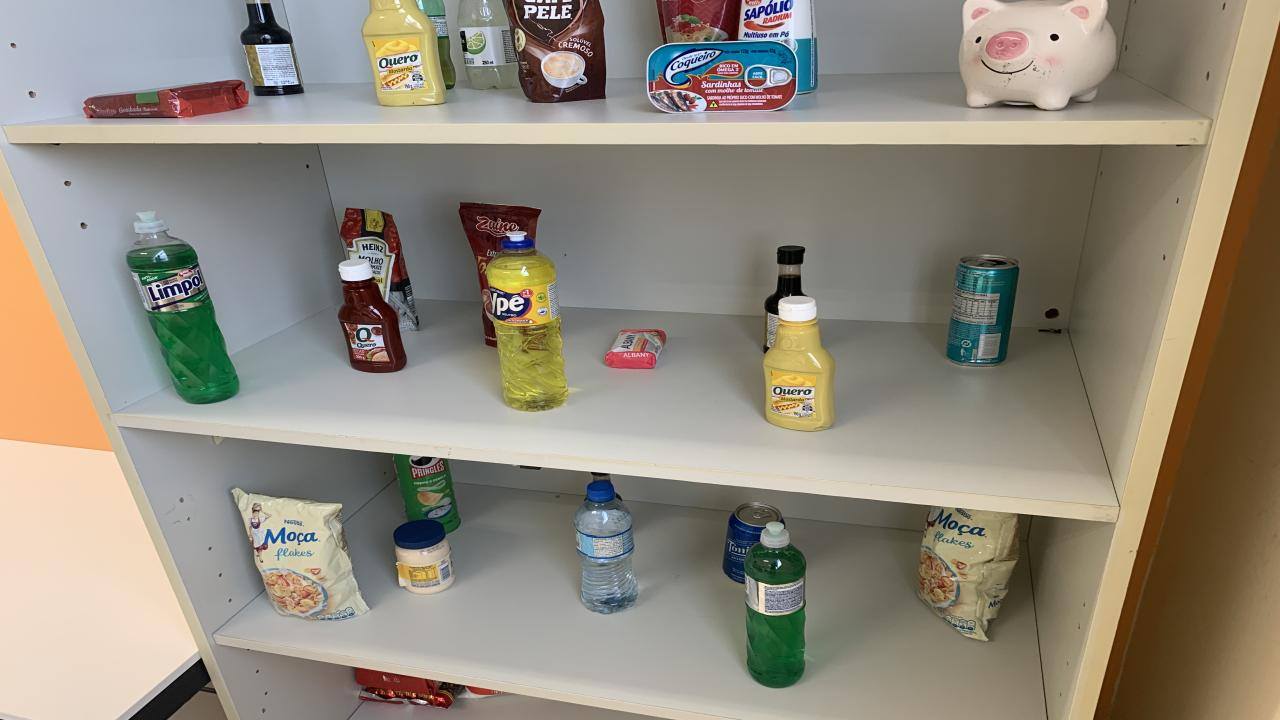Cleaner-Cleanup_Items: (738, 0, 818, 94)
Detergent-Cleanup_Items: (128, 212, 240, 403), (488, 234, 568, 411), (745, 521, 805, 688)
English_Sauce-Pantry_Items: (240, 0, 302, 96), (765, 246, 805, 352)
Flakes-Snacks: (232, 488, 368, 621), (918, 506, 1020, 641)
Guarana-Drinks: (418, 0, 455, 88)
Guava-Snacks: (82, 81, 250, 118)
Ketchup-Pantry_Items: (338, 259, 408, 373)
Mayonnaise-Pantry_Items: (392, 519, 455, 594)
Mustard-Pantry_Items: (762, 294, 835, 431), (362, 0, 445, 107)
Pig_Safe-Miscellaneous: (960, 0, 1115, 111)
Pringles-Snacks: (392, 454, 460, 532)
Soap-Cleanup_Items: (605, 330, 665, 369)
Soda-Drinks: (458, 0, 520, 90)
Tea-Drinks: (945, 255, 1020, 366)
Tomato_Sauce-Pantry_Items: (460, 202, 540, 347), (340, 208, 420, 332), (658, 0, 740, 43)
Tonic-Drinks: (722, 502, 782, 583)
Tuna_Can-Pantry_Items: (645, 41, 798, 112)
Water_Bottle-Drinks: (575, 480, 638, 613)
